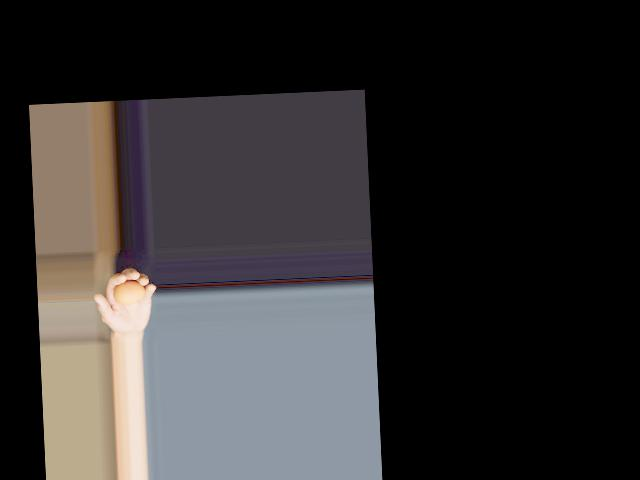egg: (113, 281, 146, 305)
